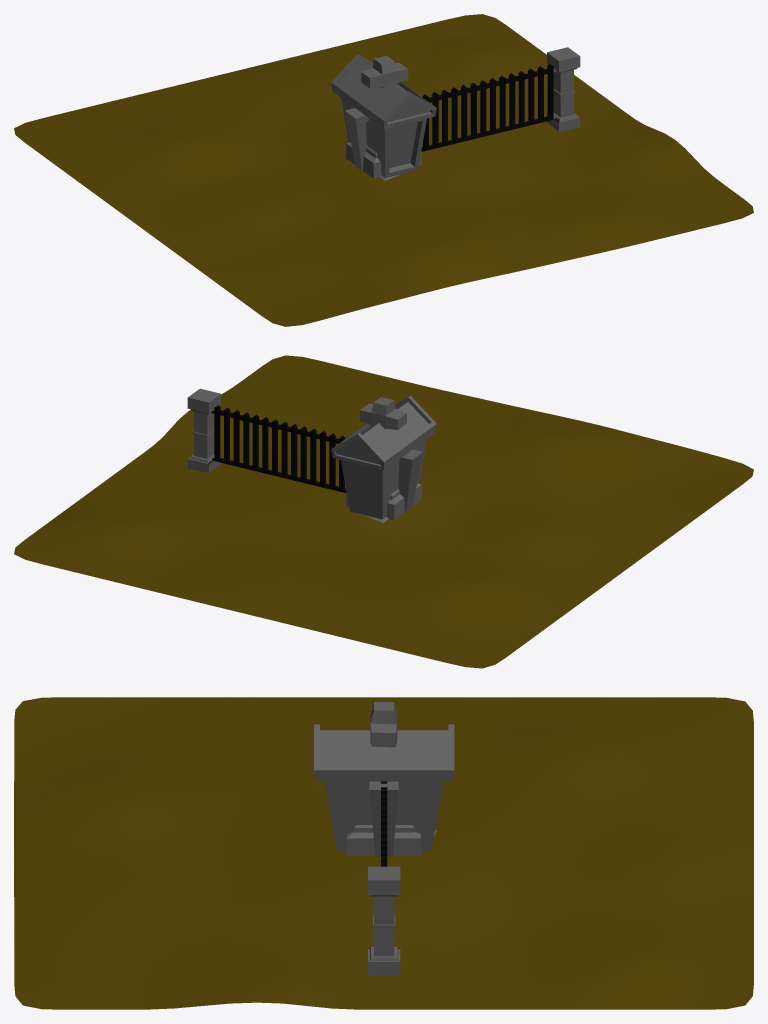
File: spooktober.fbx
The picture shows the model from 3 angles, top to bottom: view 1: azimuth 30°, elevation 25°; view 2: azimuth 150°, elevation 25°; view 3: azimuth 270°, elevation 25°; orthographic projection. The views are drawn at different scales.
Visible parts, largest first — view 1: Ground, Cube.003, Mausoleum, Grave, Cube; view 2: Ground, Cube.003, Mausoleum, Grave, Cube; view 3: Ground, Mausoleum, Cube.003, Grave, Cube.
Part boxes in pixels (x1,y1,x2,y2): Ground: (14,14,753,326); Cube.003: (421,47,580,151); Mausoleum: (331,54,436,181); Grave: (346,55,421,178); Cube: (344,108,368,170); Ground: (14,355,753,668); Cube.003: (187,388,346,492); Mausoleum: (331,395,436,523); Grave: (346,397,421,519); Cube: (398,449,423,512); Ground: (14,697,753,1009); Mausoleum: (314,724,454,851); Cube.003: (368,781,400,975); Grave: (347,702,420,855); Cube: (369,781,398,856).
Bounding box in the file's own units: 2010 × 460 × 2001.
